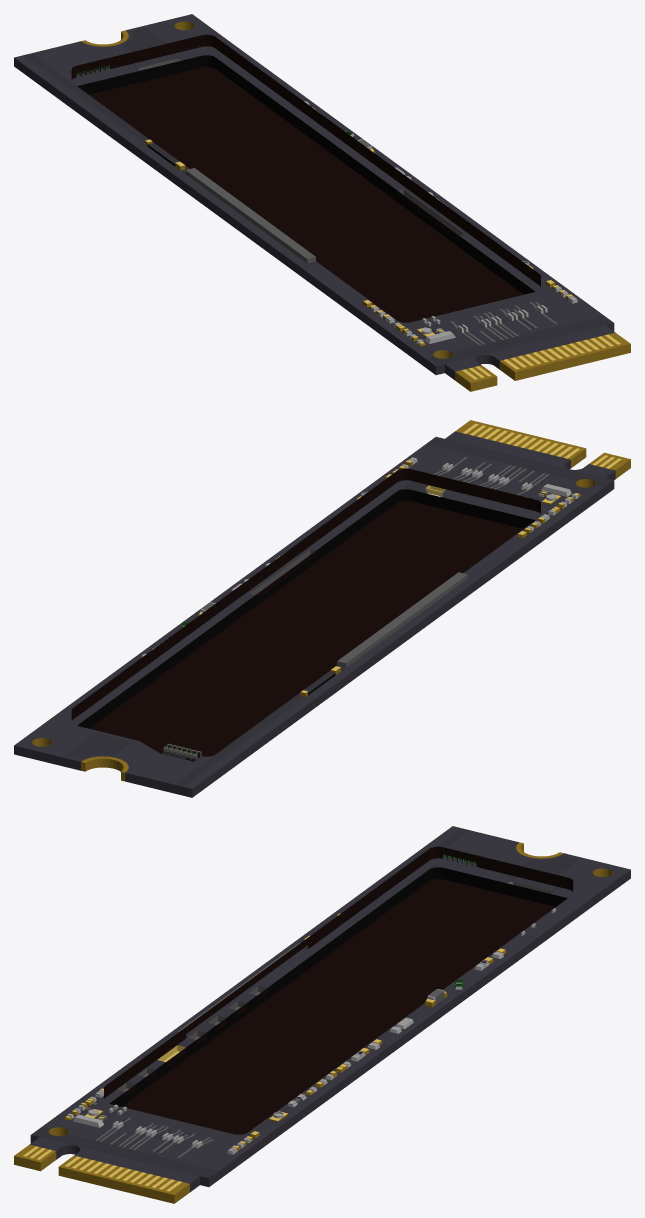
Rendered from SSD smol.glb.
The picture shows the model from 3 angles, top to bottom: view 1: azimuth 30°, elevation 25°; view 2: azimuth 150°, elevation 25°; view 3: azimuth 330°, elevation 25°; orthographic projection.
Parts seen in each view (by area): view 1: Plane; view 2: Plane; view 3: Plane.
Boxes of the visible parts, x1=… form: Plane: x1=14, y1=14, x2=630, y2=391; Plane: x1=14, y1=420, x2=630, y2=797; Plane: x1=14, y1=826, x2=630, y2=1203.
Size of the model in its own units: 2.93 by 0.5061 by 12.74.
